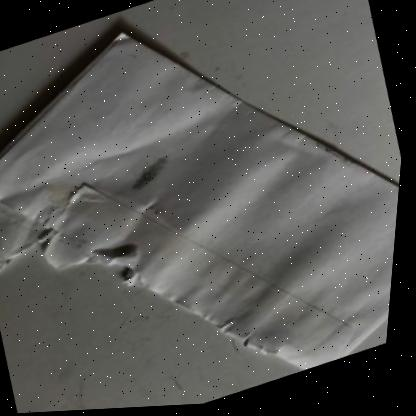Paper: (0, 33, 403, 374)
